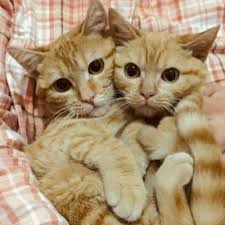cat: (7, 4, 137, 208), (105, 8, 221, 221)
